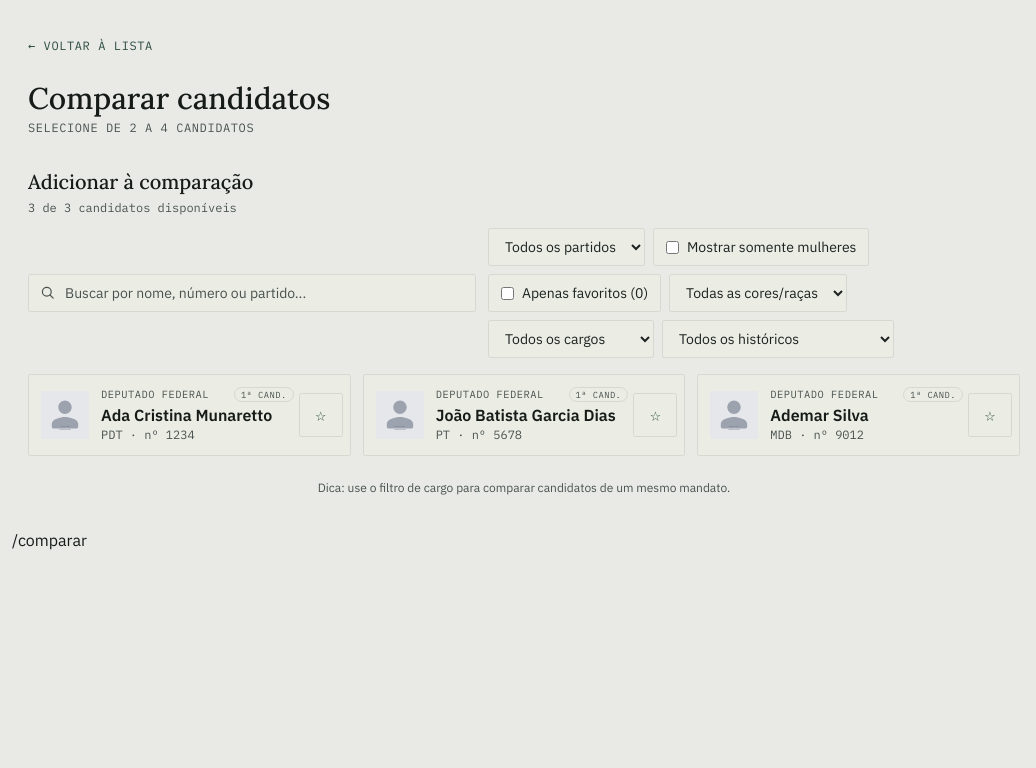
Test: ComparePage H5.3 › atualiza a rota compartilhável ao selecionar candidaturas
What coordinates should you click on to do the following:
click the button named "Foto de Ada Cristina Munaretto"
I would click on:
 (189, 415)
Its box is x1=28 y1=374 x2=351 y2=456.
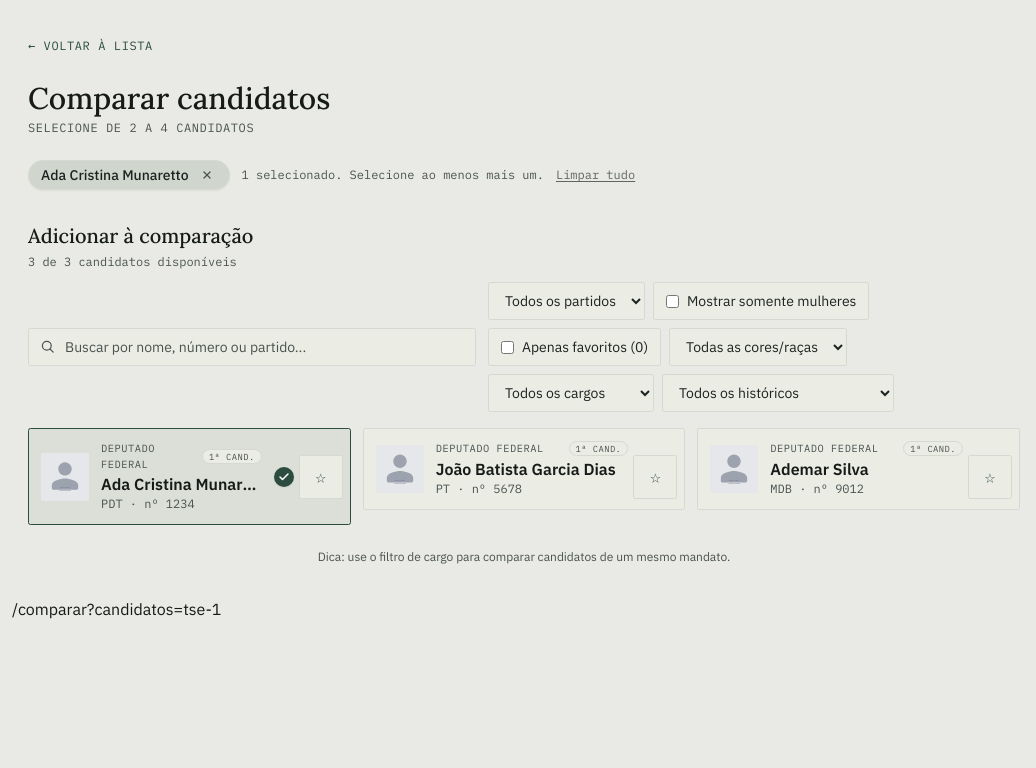
What coordinates should you click on to do the following:
click the button named "Foto de João Batista Garcia Dias"
I would click on:
 (524, 469)
Its box is x1=363 y1=428 x2=685 y2=510.
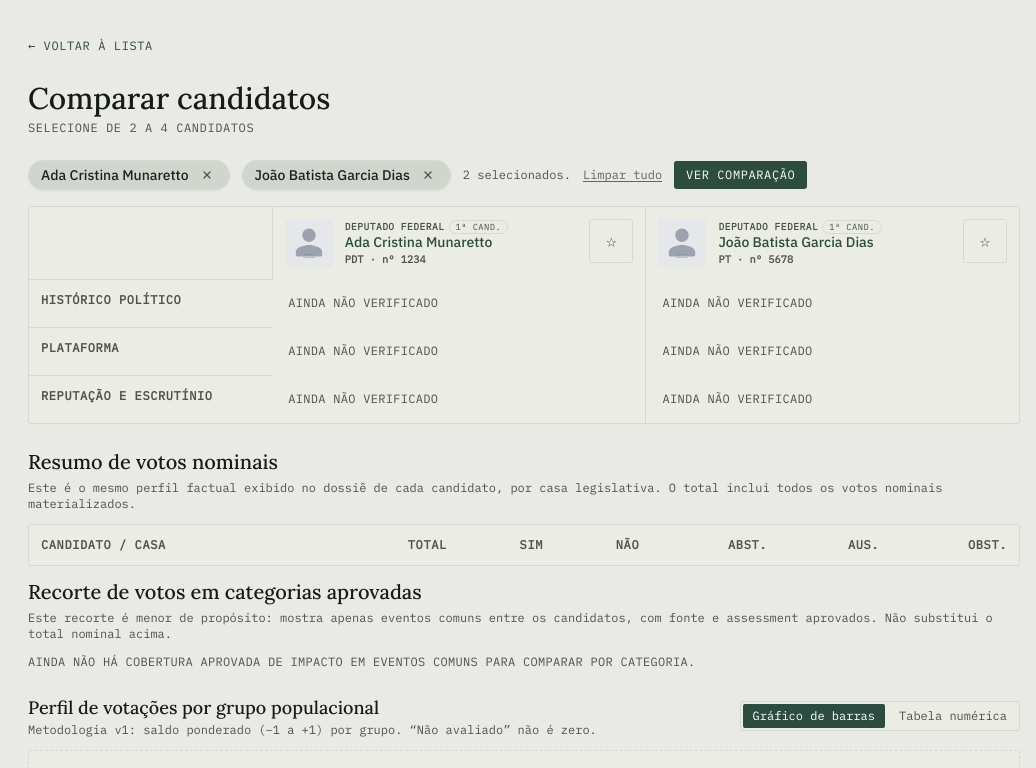
Check: the table that starts with "Deputado Federal" is shown, box x1=29 y1=207 x2=1019 y2=423
